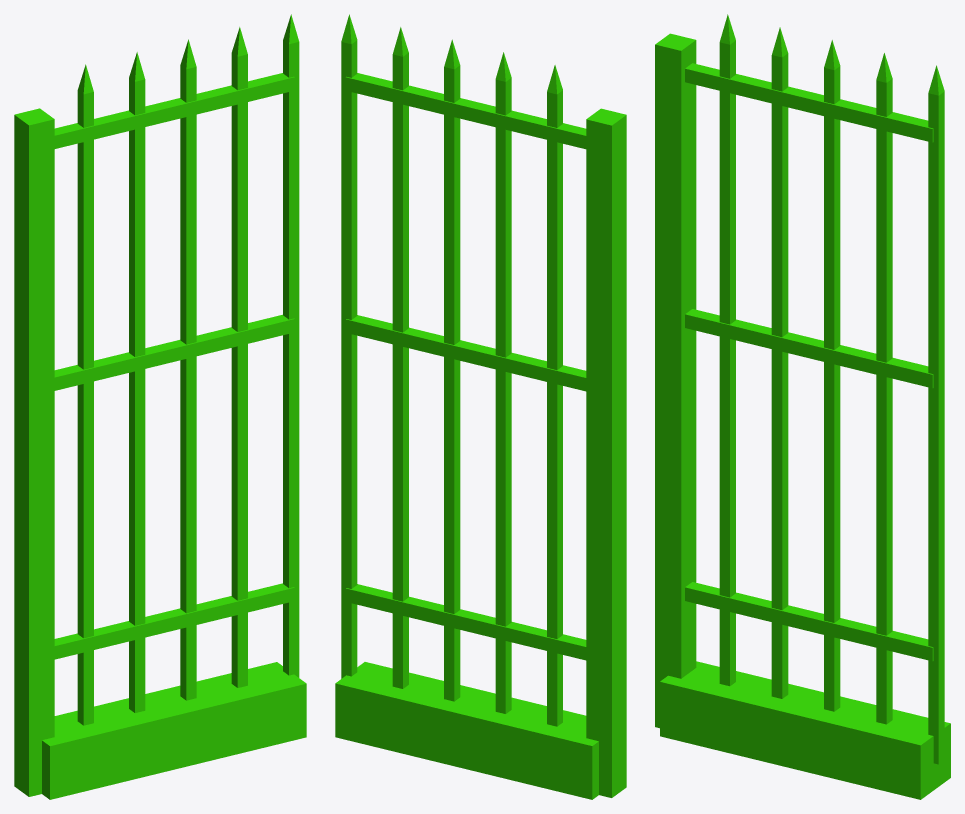
Rendered from fence3_06.fbx.
3 views of the same model, side by side, from view 1: azimuth 30°, elevation 25°; view 2: azimuth 150°, elevation 25°; view 3: azimuth 330°, elevation 25° (orthographic).
Parts seen in each view (by area): view 1: fence3_06; view 2: fence3_06; view 3: fence3_06.
Part boxes in pixels (bbox=[...]): fence3_06: bbox=[14, 14, 306, 799]; fence3_06: bbox=[335, 14, 626, 799]; fence3_06: bbox=[655, 14, 950, 799].
Size of the model in its own units: 107 by 265 by 20.
